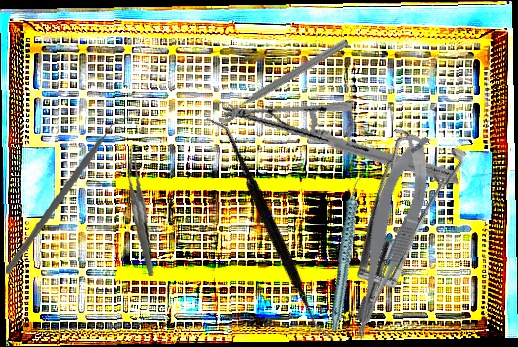Chopper: (5, 108, 133, 283)
Dressing Forceps: (107, 153, 170, 277)
Fixation Ring: (209, 27, 352, 127)
Handpiece: (299, 171, 396, 333)
Micro Scissor: (325, 129, 451, 344)
Needle Holder: (221, 56, 460, 233)
Spatula Surgical: (141, 115, 398, 343)
Speculum: (280, 103, 513, 327)
